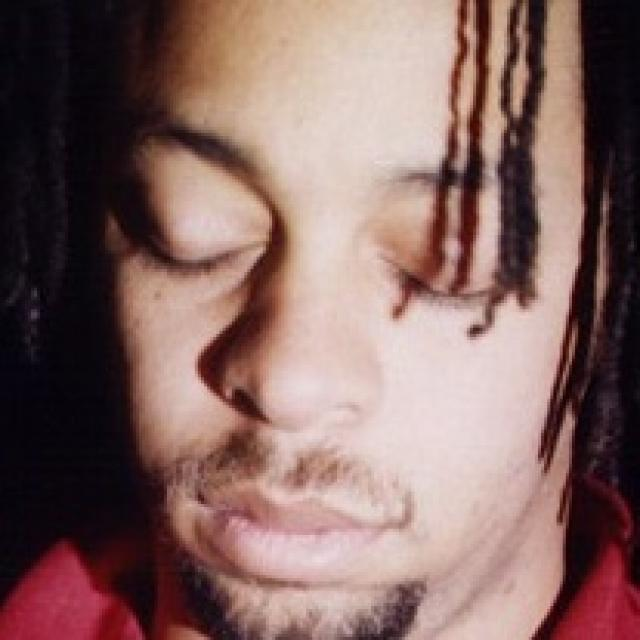close: (107, 94, 272, 306), (368, 150, 523, 341)
